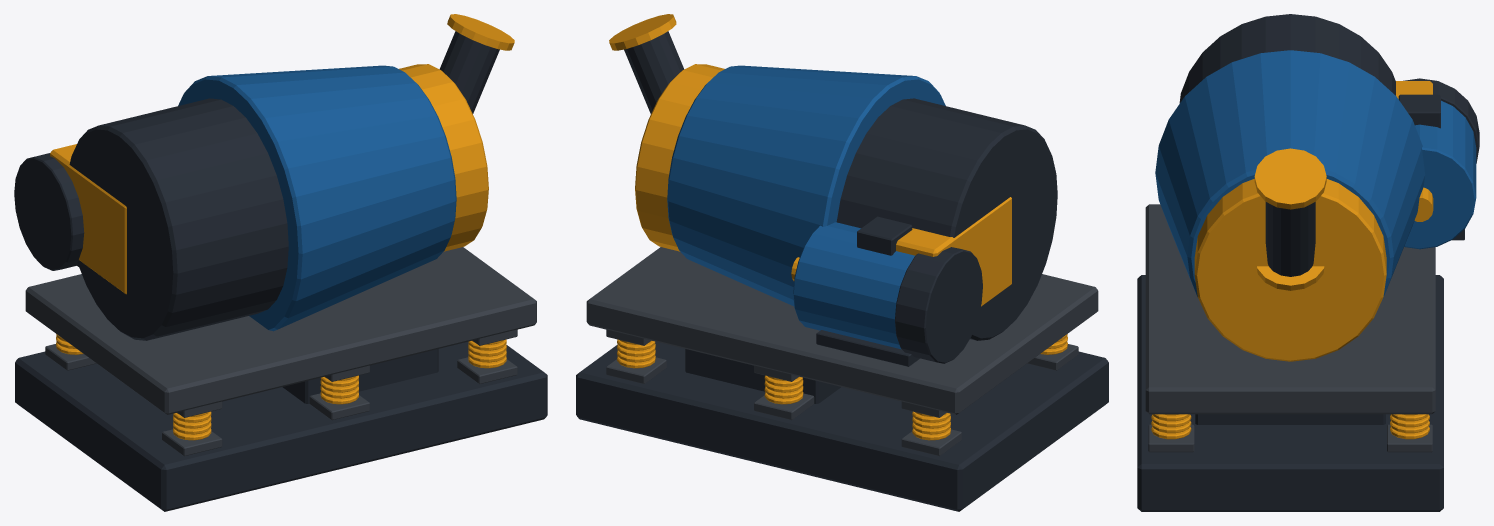
Rendered from centrifuge_dryer_cf501.glb.
The picture shows the model from 3 angles, left to right: view 1: azimuth 30°, elevation 25°; view 2: azimuth 150°, elevation 25°; view 3: azimuth 270°, elevation 25°; orthographic projection. The views are drawn at different scales.
Parts seen in each view (by area): view 1: CF_BaseSkid, CF_BowlHousing, CF_Spring_0.0_0.72_BaseCap, CF_FrontFeedDoor; view 2: CF_BaseSkid, CF_BowlHousing, CF_Spring_0.0_0.72_BaseCap, CF_FrontFeedDoor; view 3: CF_BaseSkid, CF_BowlHousing, CF_Spring_0.0_0.72_BaseCap, CF_FrontFeedDoor.
Part boxes in pixels (x1,y1,x2,y2): CF_BaseSkid: (14,31,547,511); CF_BowlHousing: (178,65,456,331); CF_Spring_0.0_0.72_BaseCap: (25,247,536,456); CF_FrontFeedDoor: (50,14,514,440); CF_BaseSkid: (576,31,1108,511); CF_BowlHousing: (667,65,945,349); CF_Spring_0.0_0.72_BaseCap: (586,247,1098,456); CF_FrontFeedDoor: (609,14,1067,440); CF_BaseSkid: (1137,14,1479,511); CF_BowlHousing: (1155,50,1476,297); CF_Spring_0.0_0.72_BaseCap: (1145,204,1435,452); CF_FrontFeedDoor: (1151,81,1433,439).
Size of the model in its own units: 3 by 2.37 by 2.07.
